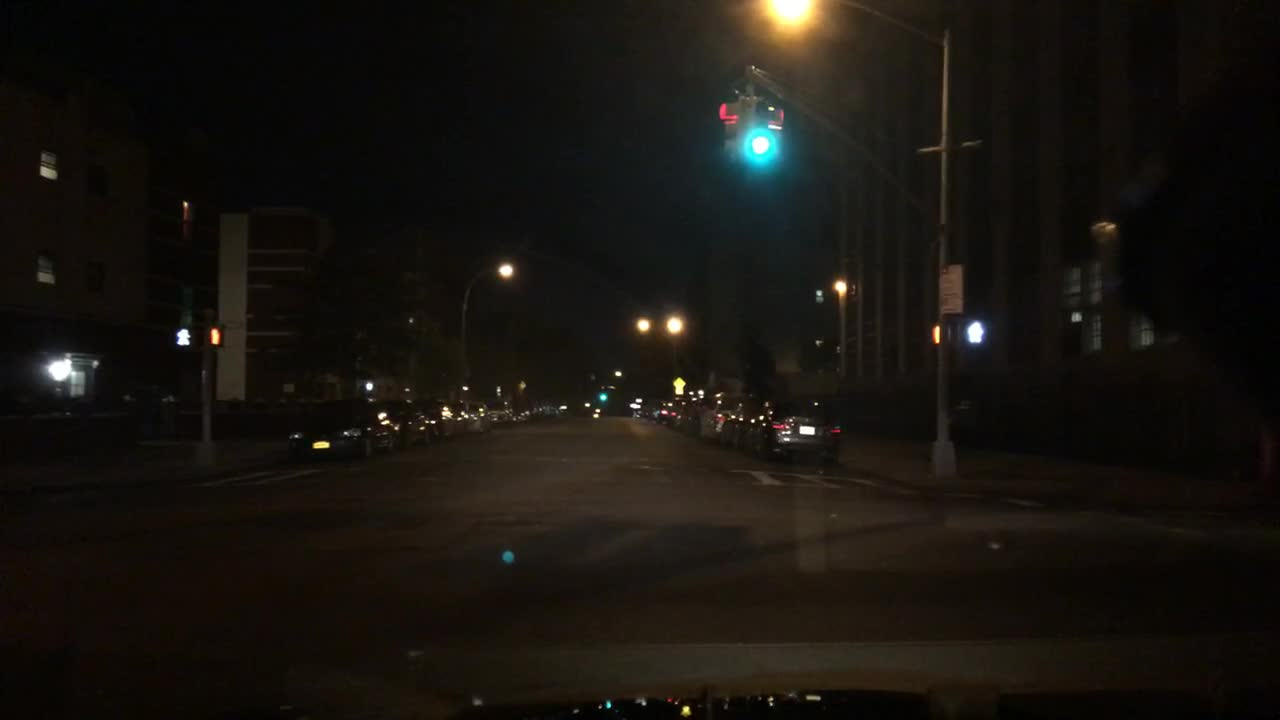car: (291, 400, 396, 456), (752, 399, 840, 461), (698, 391, 752, 440), (386, 401, 427, 446), (726, 399, 753, 449), (678, 401, 706, 436), (430, 399, 456, 436), (466, 404, 492, 431), (490, 401, 517, 421), (662, 403, 683, 427), (454, 403, 471, 431), (651, 403, 668, 426), (520, 404, 535, 420), (536, 401, 551, 416)
traffic light: (719, 99, 746, 160), (749, 97, 771, 159), (955, 318, 989, 346), (771, 102, 786, 162), (177, 326, 198, 346), (932, 323, 950, 345), (207, 326, 223, 346), (600, 386, 607, 403)
traffic sign: (936, 260, 962, 315), (673, 376, 686, 395)
